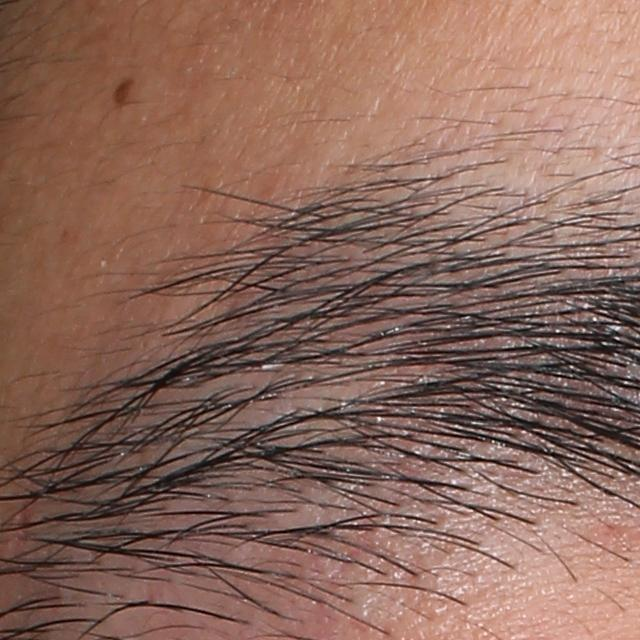nevus: (109, 75, 137, 116)
